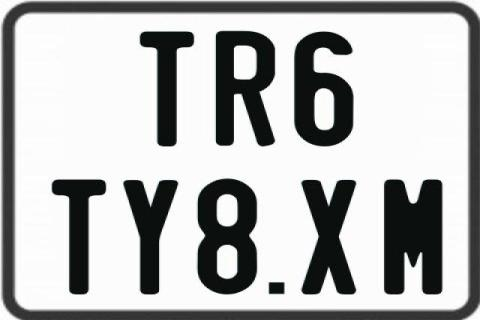0: (197, 177, 262, 297), (294, 32, 354, 151)
M: (384, 180, 445, 298)
R: (213, 30, 272, 148)
T: (138, 31, 196, 147), (53, 178, 110, 296)
X: (302, 178, 357, 294)
Y: (121, 178, 180, 292)
